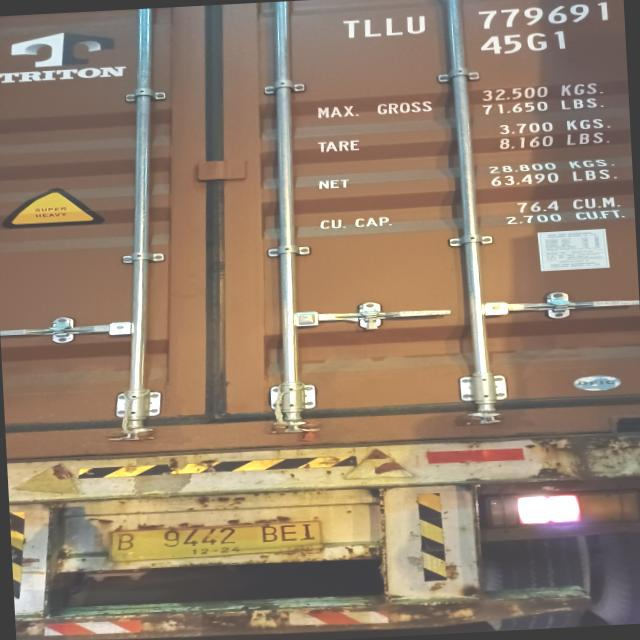seal: (300, 418, 322, 442), (360, 308, 382, 331)
